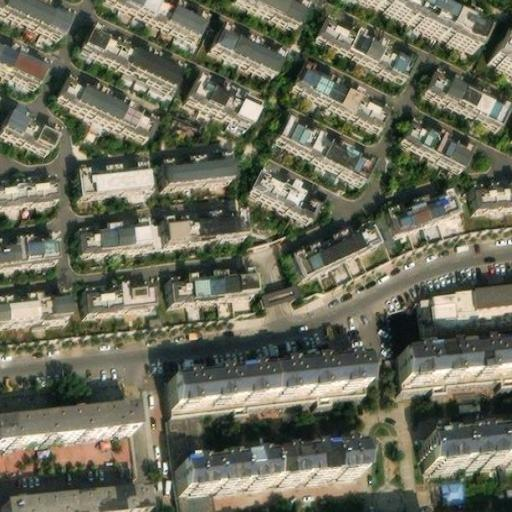building: (162, 357, 357, 404), (170, 444, 355, 491), (53, 76, 155, 140), (366, 0, 486, 54), (81, 25, 182, 87), (272, 114, 368, 179), (291, 65, 386, 127), (314, 16, 408, 75), (414, 284, 512, 338), (0, 404, 133, 442), (422, 67, 507, 124), (292, 216, 376, 272), (397, 340, 512, 379), (182, 73, 257, 126), (247, 169, 319, 219), (420, 426, 512, 465), (398, 120, 469, 169), (115, 0, 204, 37), (391, 178, 462, 224), (210, 28, 278, 74), (166, 272, 256, 305), (161, 206, 247, 240), (74, 217, 156, 250), (0, 0, 71, 35), (165, 401, 205, 463), (75, 160, 149, 193), (157, 151, 231, 183), (0, 109, 54, 150), (0, 36, 45, 82), (80, 284, 149, 312), (0, 232, 53, 264), (243, 0, 303, 25), (0, 183, 52, 207), (475, 175, 512, 200), (176, 487, 210, 512), (488, 36, 512, 67)
